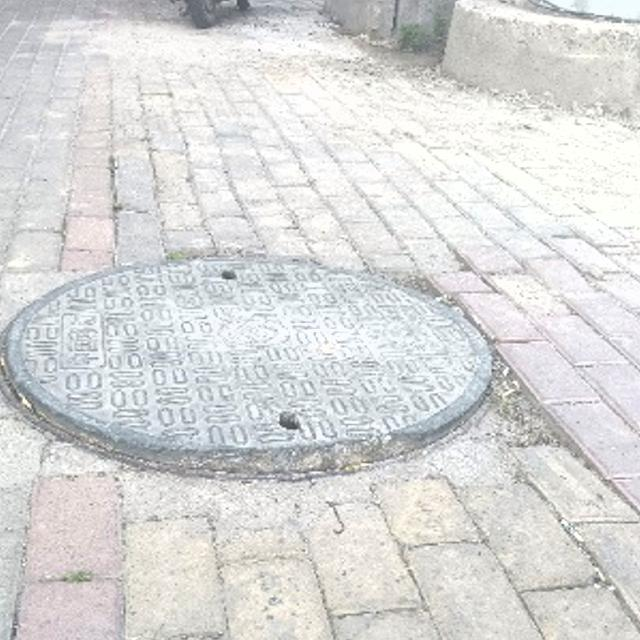good: (0, 250, 491, 477)
